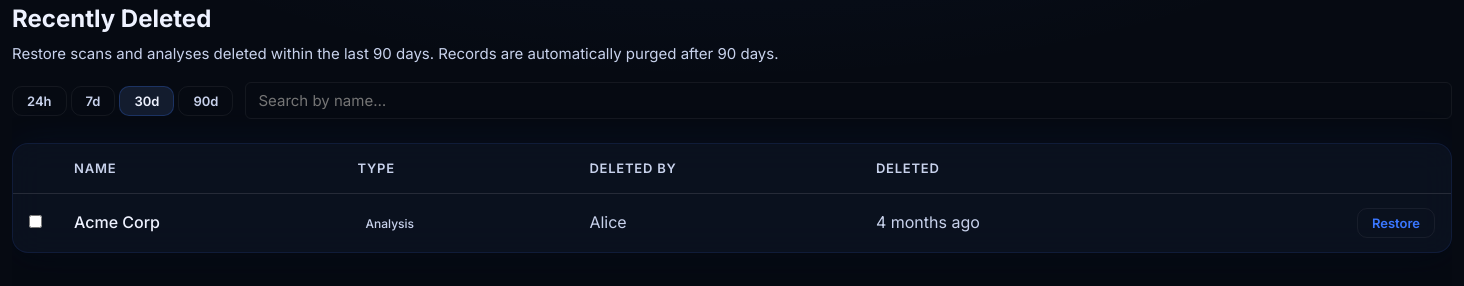
Scenario: RecentlyDeletedView › renders a no-matches row when the search filter excludes every record
Type "no-such-thing" into the search field named "Filter by name" at (849, 101), box [246, 82, 1452, 119]
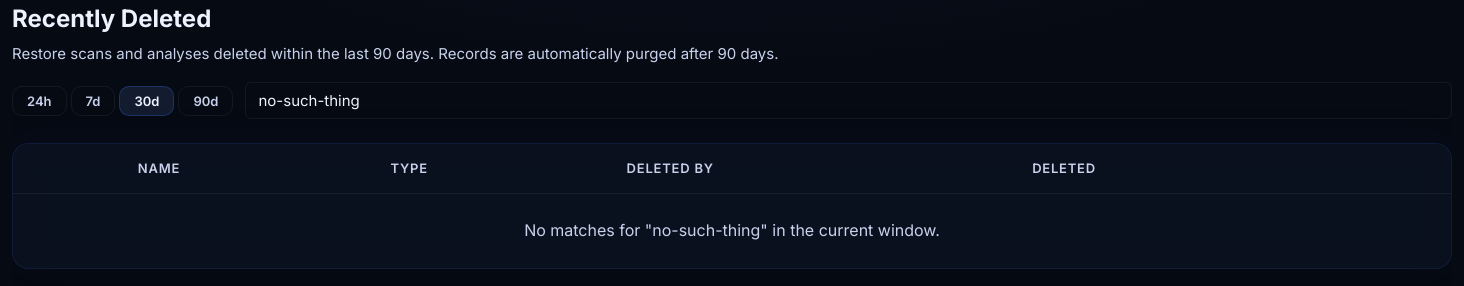
expect the text "No matches for \"no-such-thing\" in the current window." is shown: met, box [13, 194, 1451, 268]
